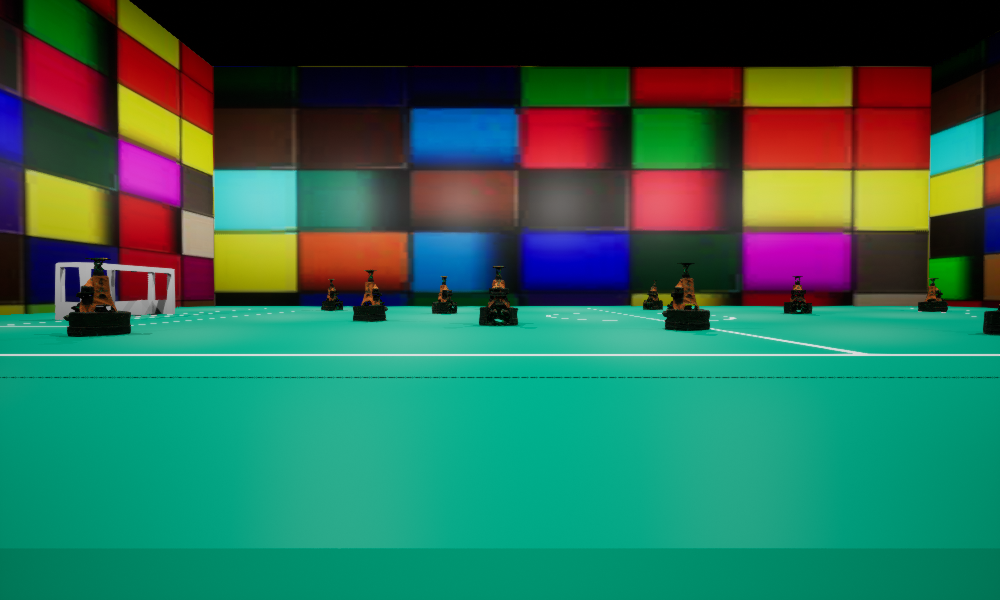0 orange robot TechUnited: (63, 258, 130, 335), (662, 263, 709, 330), (479, 266, 517, 325), (353, 270, 387, 321), (784, 276, 811, 313), (918, 278, 947, 311), (432, 276, 456, 313), (321, 279, 342, 310), (643, 280, 662, 309), (983, 304, 999, 334), (497, 290, 509, 305)
